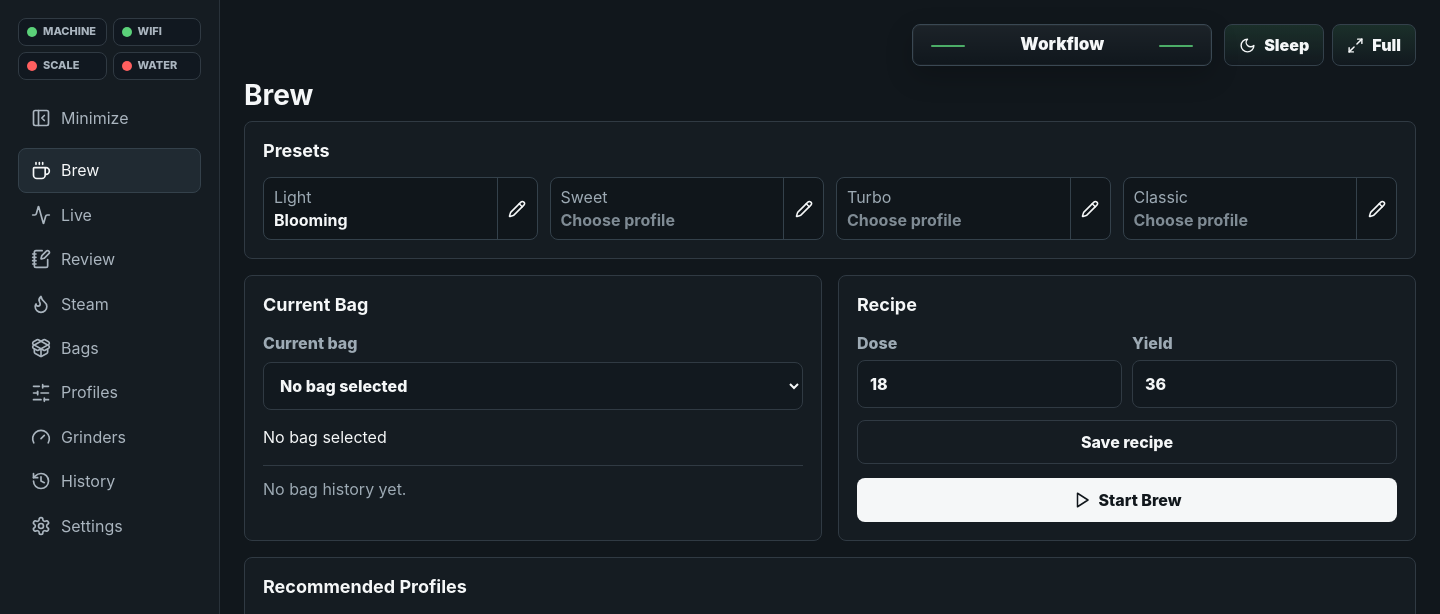
Test case: App shell › assigns a preset profile when only local settings storage is available
The image size is (1440, 614).
Click the button named "Edit Light" at (516, 209), box [496,178,536,239]
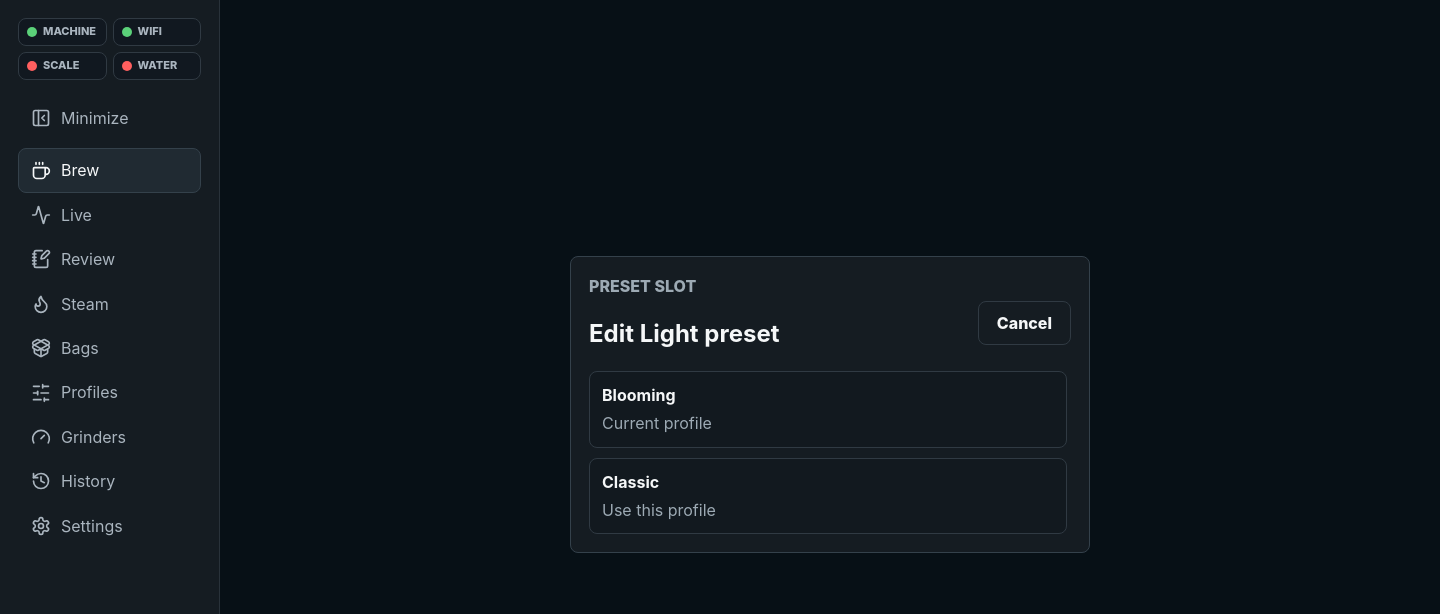
Click the button with aria-label "Use Classic" at (631, 482), box [589,458,1067,535]
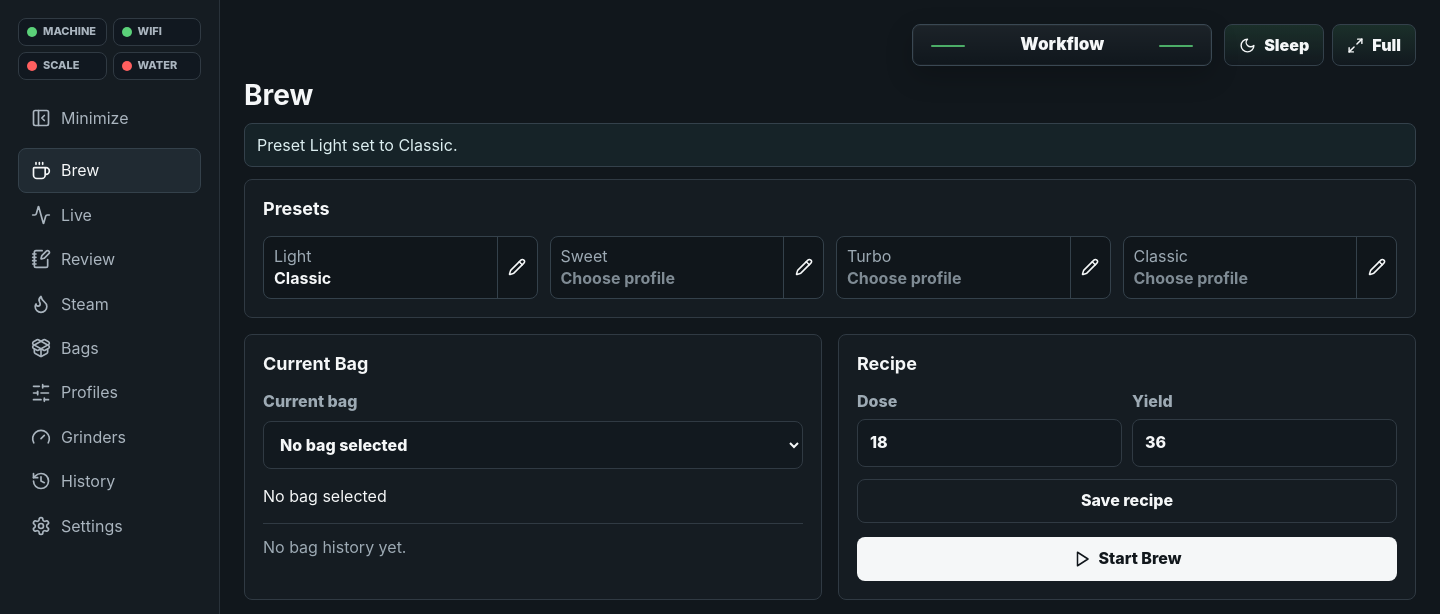
Now the button "Light Classic" is shown, box [264,237,496,298]
Now the heading "Edit Light preset" is gone
